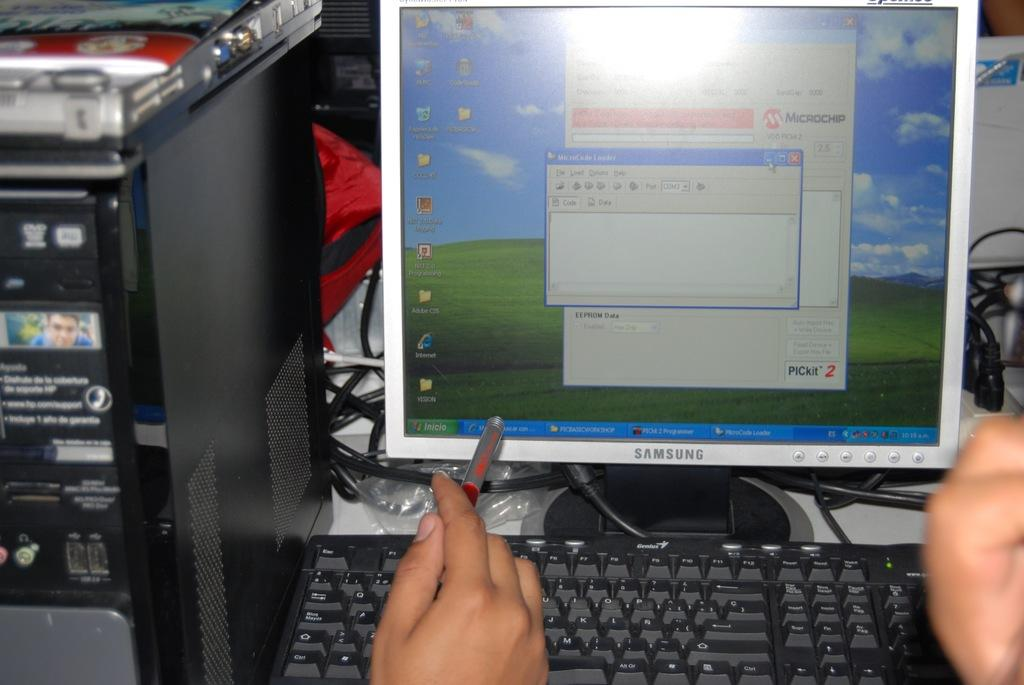Computer-keyboard: (262, 531, 969, 684)
Computer-monitor: (349, 15, 984, 608)
